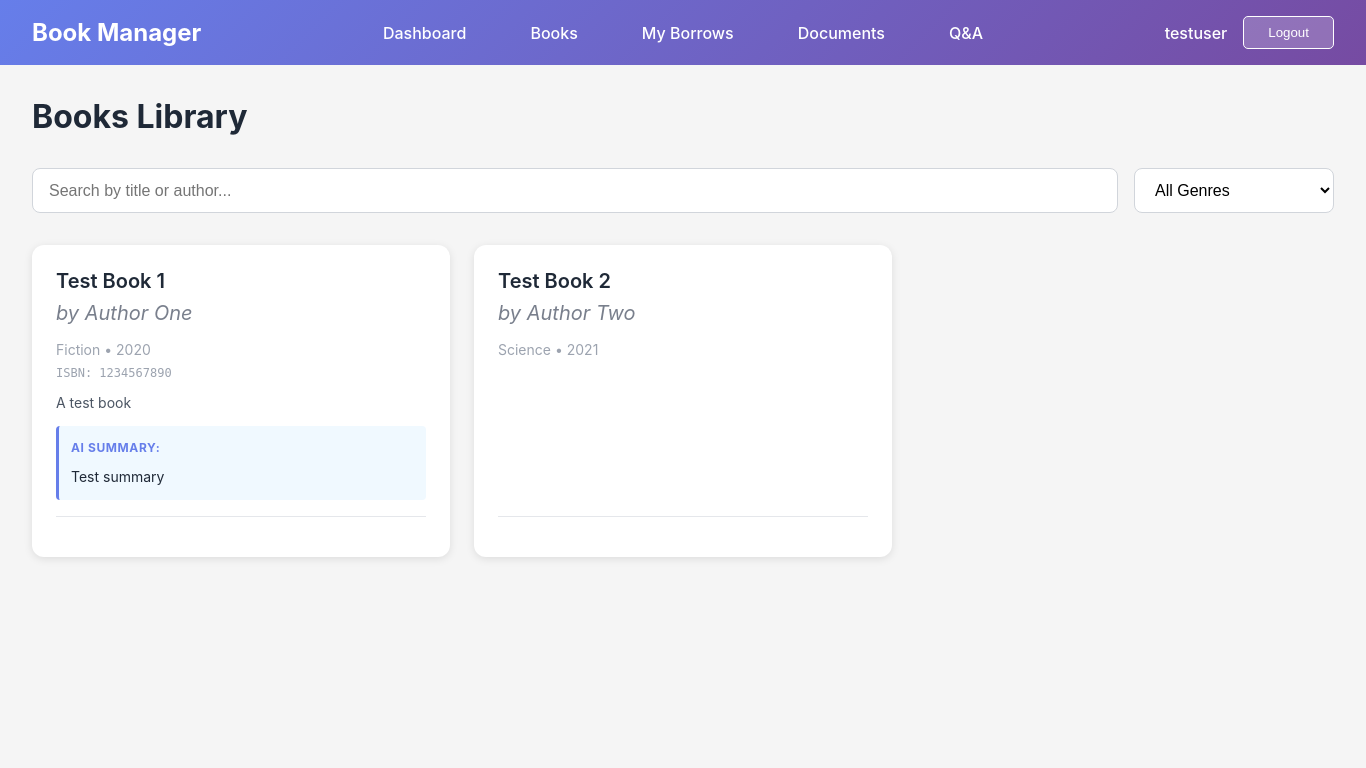
Books Component › Search and filter functionality › should filter books by genre
The image size is (1366, 768).
Expected: the link "Test Book 1" is shown, [56,269,165,293]
Select "Fiction" in the dropdown: [1234, 190] box [1134,168,1334,213]
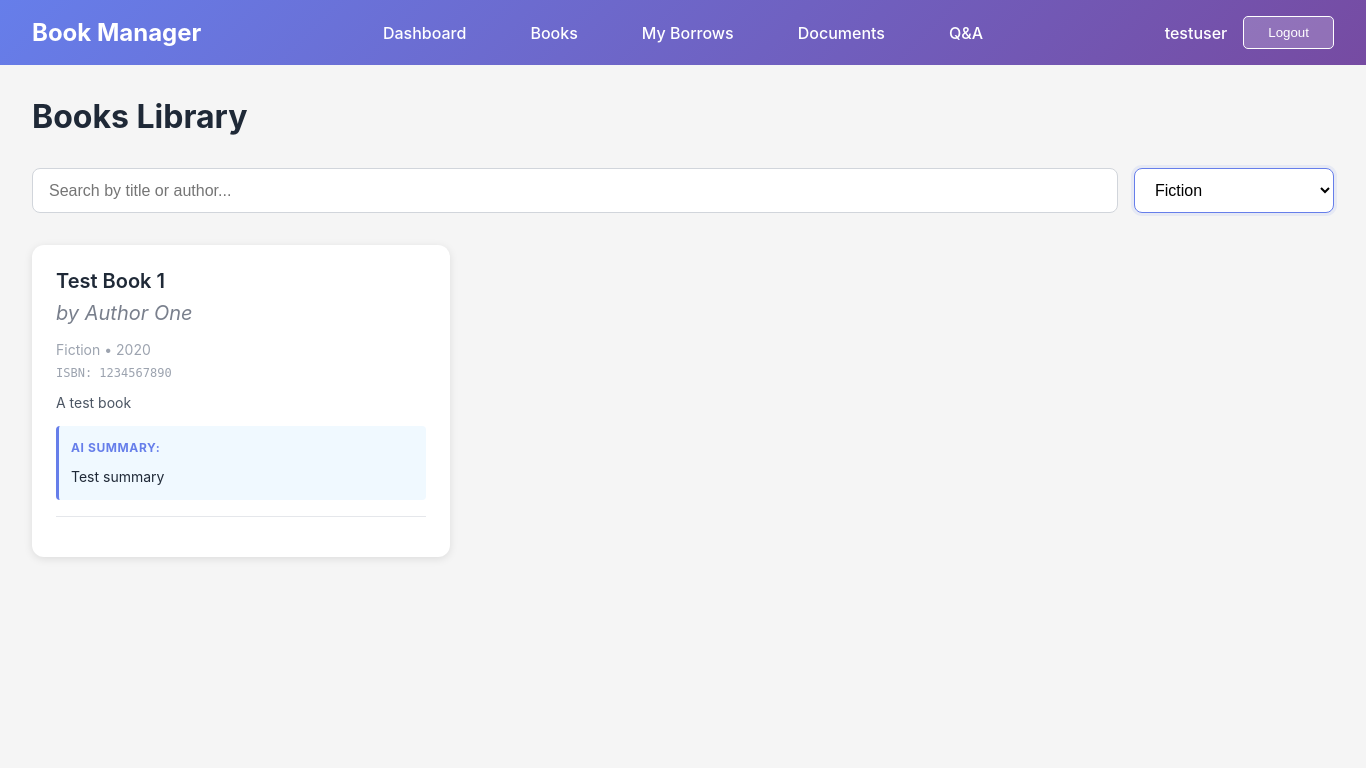
Expected: the link "Test Book 1" is shown, [56,269,165,293]
Expected: the link "Test Book 2" is gone
